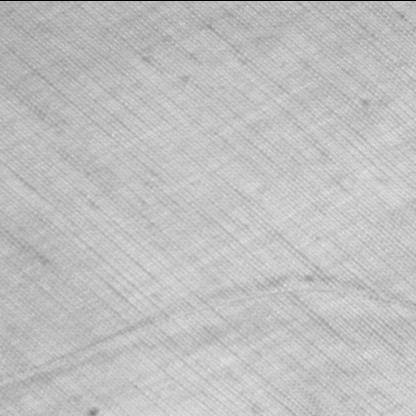objects: (1, 281, 415, 400)
